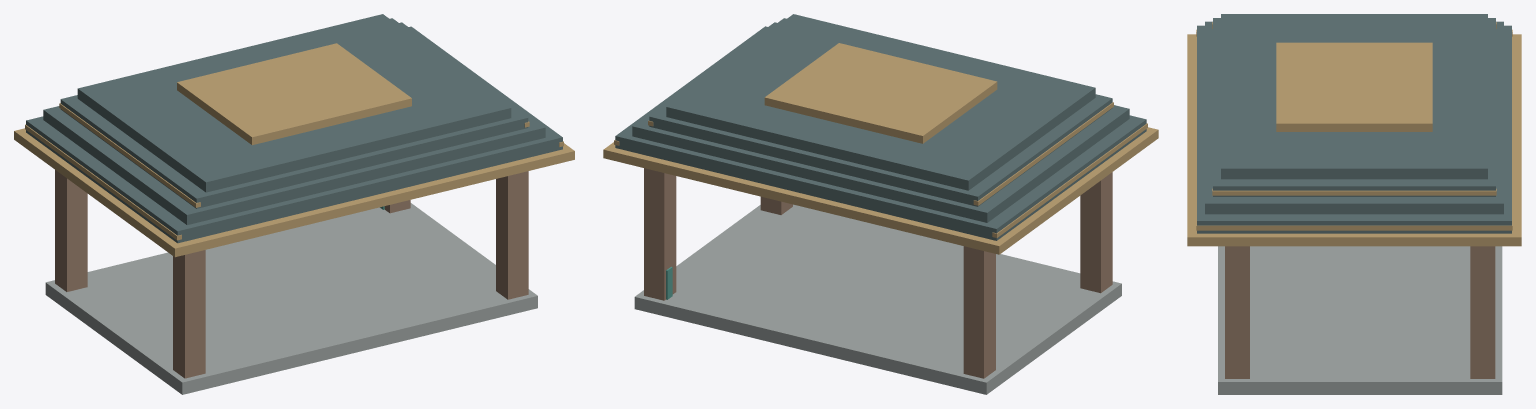
The model's file is long_pavilion.glb.
3 views of the same model, side by side, from view 1: azimuth 30°, elevation 25°; view 2: azimuth 150°, elevation 25°; view 3: azimuth 270°, elevation 25° (orthographic). The views are drawn at different scales.
Visible parts, largest first — view 1: long_pavilion_04_roof_courses, long_pavilion_00_floor, long_pavilion_06_upper_ridge, long_pavilion_01_open_pillars, long_pavilion_03_eaves, long_pavilion_05_ridge_trim; view 2: long_pavilion_04_roof_courses, long_pavilion_00_floor, long_pavilion_06_upper_ridge, long_pavilion_01_open_pillars, long_pavilion_03_eaves, long_pavilion_05_ridge_trim; view 3: long_pavilion_04_roof_courses, long_pavilion_00_floor, long_pavilion_06_upper_ridge, long_pavilion_03_eaves, long_pavilion_01_open_pillars, long_pavilion_05_ridge_trim.
Part boxes in pixels (x1,y1,x2,y2): long_pavilion_04_roof_courses: [26, 14, 562, 243]; long_pavilion_00_floor: [45, 203, 537, 394]; long_pavilion_06_upper_ridge: [177, 43, 411, 145]; long_pavilion_01_open_pillars: [55, 170, 528, 378]; long_pavilion_03_eaves: [14, 128, 574, 257]; long_pavilion_05_ridge_trim: [25, 103, 563, 240]; long_pavilion_04_roof_courses: [615, 14, 1146, 240]; long_pavilion_00_floor: [634, 204, 1121, 394]; long_pavilion_06_upper_ridge: [764, 43, 997, 143]; long_pavilion_01_open_pillars: [644, 168, 1112, 378]; long_pavilion_03_eaves: [603, 127, 1158, 254]; long_pavilion_05_ridge_trim: [614, 102, 1147, 237]; long_pavilion_04_roof_courses: [1197, 14, 1511, 233]; long_pavilion_00_floor: [1218, 246, 1502, 394]; long_pavilion_06_upper_ridge: [1276, 42, 1432, 131]; long_pavilion_03_eaves: [1187, 34, 1521, 246]; long_pavilion_01_open_pillars: [1225, 246, 1495, 378]; long_pavilion_05_ridge_trim: [1196, 22, 1512, 230].
Size of the model in its own units: 13.5 by 6.88 by 9.4.
